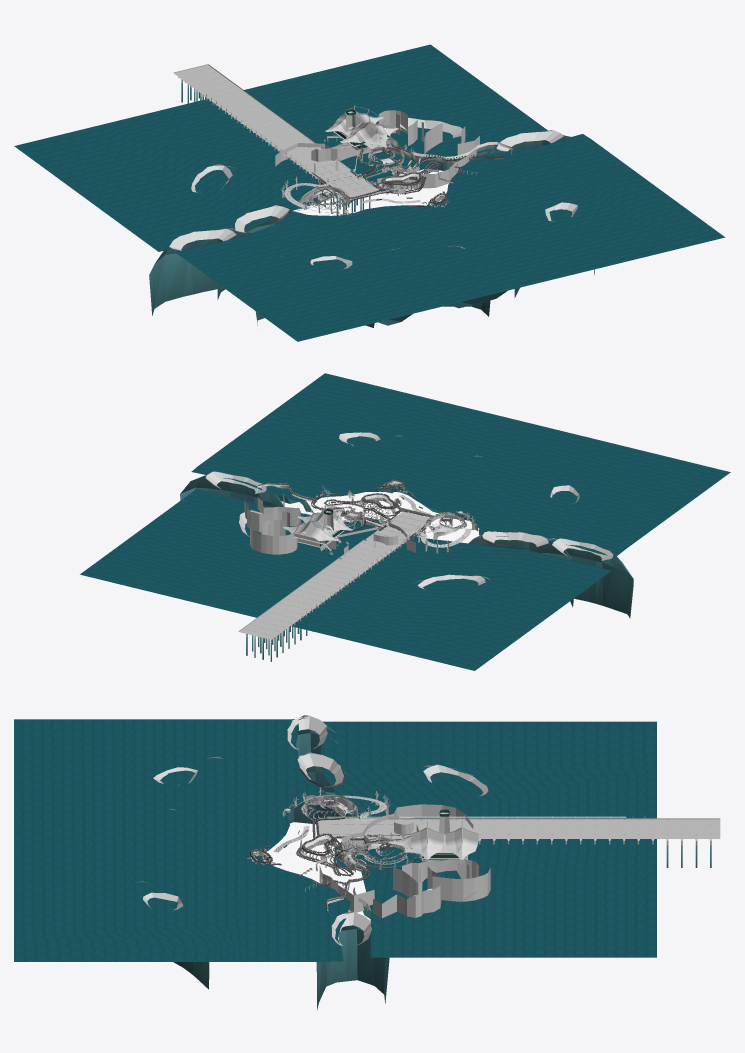
The model's file is track.glb.
3 renders of one model, top to bottom at view 1: azimuth 30°, elevation 25°; view 2: azimuth 150°, elevation 25°; view 3: azimuth 270°, elevation 25°, orthographic. The views are drawn at different scales.
Parts seen in each view (by area): view 1: mesh_4, mesh_17, mesh_38, mesh_39, mesh_48, mesh_22, mesh_21, mesh_40, mesh_35; view 2: mesh_4, mesh_17, mesh_38, mesh_39, mesh_48, mesh_22, mesh_40, mesh_21, mesh_35; view 3: mesh_4, mesh_38, mesh_17, mesh_48, mesh_39, mesh_21, mesh_22, mesh_35, mesh_40.
Boxes of the visible parts, x1,y1,x2,y2 form: mesh_4: [14, 44, 725, 341]; mesh_17: [149, 135, 594, 327]; mesh_38: [173, 64, 476, 213]; mesh_39: [169, 118, 577, 269]; mesh_48: [275, 110, 479, 190]; mesh_22: [318, 145, 503, 206]; mesh_21: [325, 111, 398, 147]; mesh_40: [178, 68, 373, 215]; mesh_35: [284, 112, 476, 212]; mesh_4: [80, 373, 730, 670]; mesh_17: [180, 476, 633, 618]; mesh_38: [238, 486, 473, 639]; mesh_39: [205, 432, 613, 589]; mesh_48: [244, 493, 415, 554]; mesh_22: [278, 479, 445, 537]; mesh_40: [246, 515, 428, 661]; mesh_21: [283, 511, 352, 541]; mesh_35: [323, 486, 471, 547]; mesh_4: [14, 719, 656, 961]; mesh_38: [294, 787, 720, 891]; mesh_17: [173, 726, 410, 1010]; mesh_48: [319, 804, 490, 918]; mesh_39: [143, 716, 488, 945]; mesh_21: [388, 827, 478, 859]; mesh_22: [251, 814, 421, 908]; mesh_35: [273, 795, 449, 888]; mesh_40: [331, 819, 711, 867].
Size of the model in its own units: 1129 by 237 by 1242.
2 materials, 2 textured.
